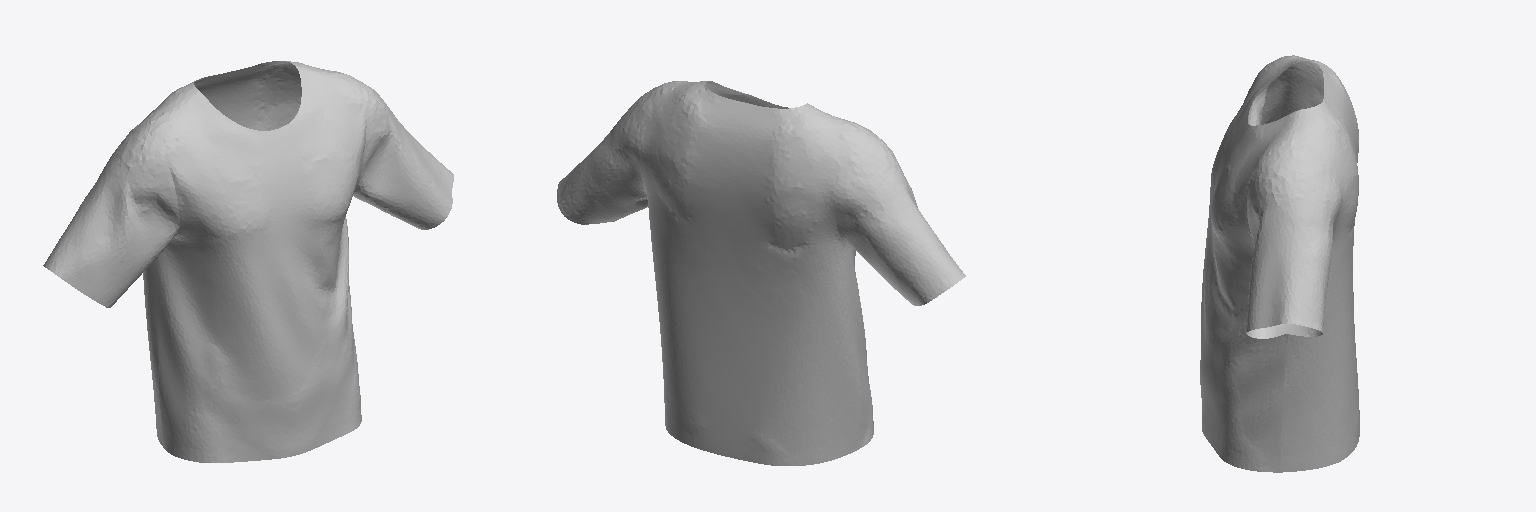
The model's file is Template.obj.
3 views of the same model, side by side, from view 1: azimuth 30°, elevation 25°; view 2: azimuth 150°, elevation 25°; view 3: azimuth 270°, elevation 25° (orthographic).
Parts seen in each view (by area): view 1: Template.004; view 2: Template.004; view 3: Template.004.
Part boxes in pixels (bbox=[...]): Template.004: bbox=[43, 61, 453, 462]; Template.004: bbox=[557, 81, 965, 465]; Template.004: bbox=[1200, 55, 1359, 472].
Size of the model in its own units: 0.7764 by 0.6333 by 0.2673.